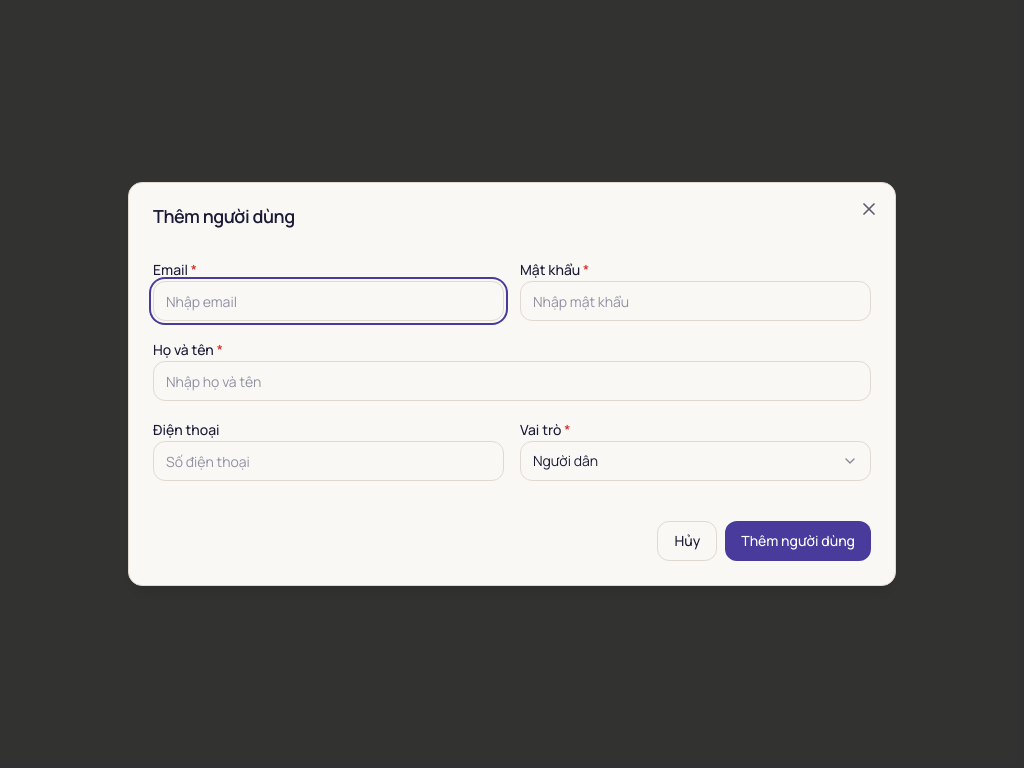
Test: UserFormDialog › shows validation errors and does not submit an empty form
The image size is (1024, 768).
Click the button "Thêm người dùng" at [798, 541], box x1=725 y1=521 x2=871 y2=561
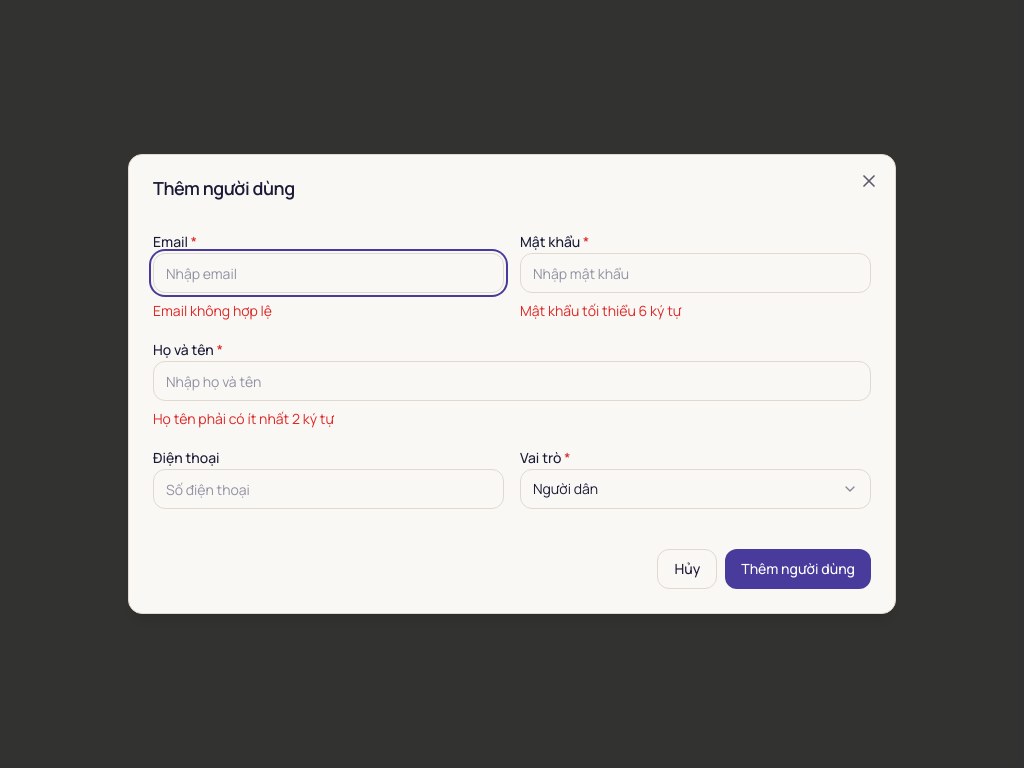
Result: the text "Email không hợp lệ" is shown at x1=153 y1=301 x2=272 y2=320
